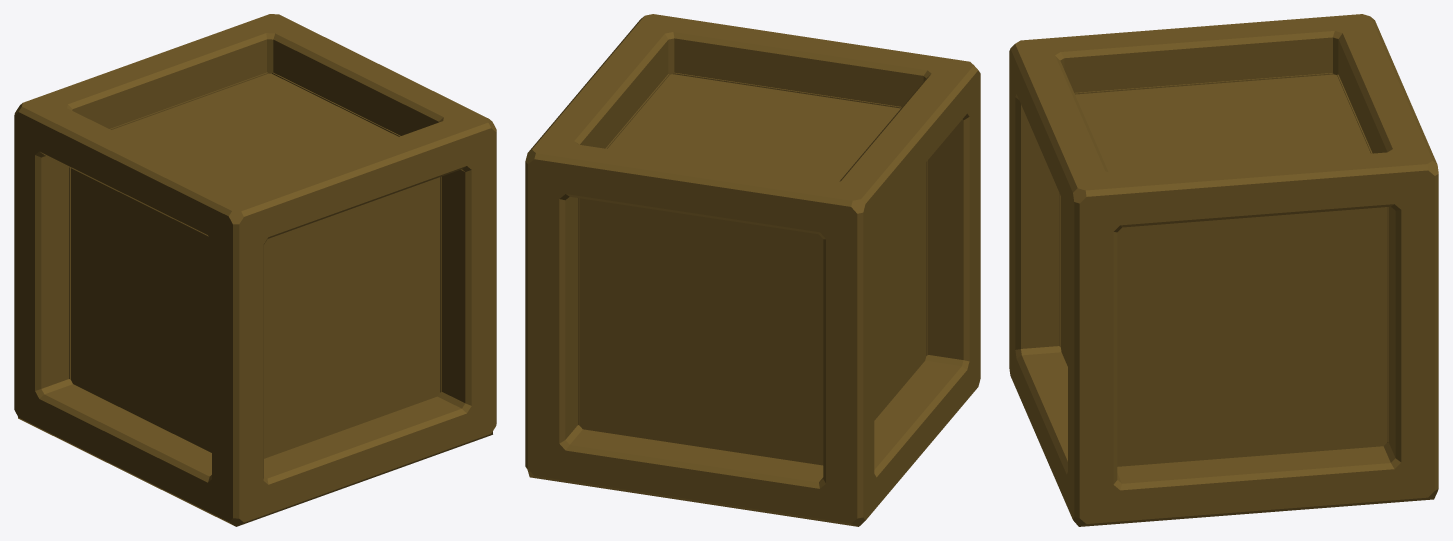
The picture shows the model from 3 angles, left to right: view 1: azimuth 30°, elevation 25°; view 2: azimuth 150°, elevation 25°; view 3: azimuth 270°, elevation 25°; orthographic projection. The views are drawn at different scales.
Parts seen in each view (by area): view 1: box; view 2: box; view 3: box.
Boxes of the visible parts, x1=… form: box: x1=14, y1=14, x2=496, y2=526; box: x1=525, y1=14, x2=980, y2=526; box: x1=1009, y1=14, x2=1438, y2=526.
Bounding box in the file's own units: 206 × 177 × 206.
